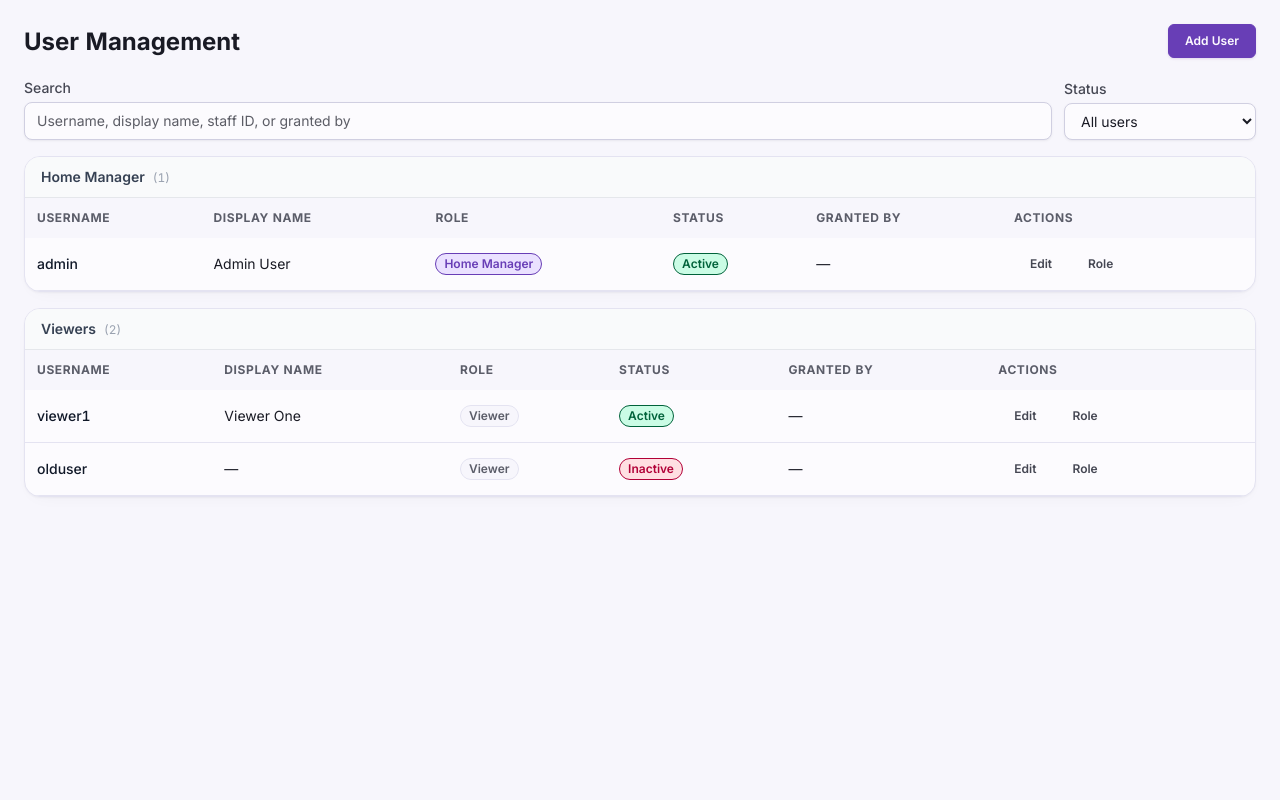
Test: UserManagement › opens Add User modal on button click
This screenshot has width=1280, height=800.
Click the button "Add User" at {"x": 1212, "y": 41}, box [1168,24,1256,58]
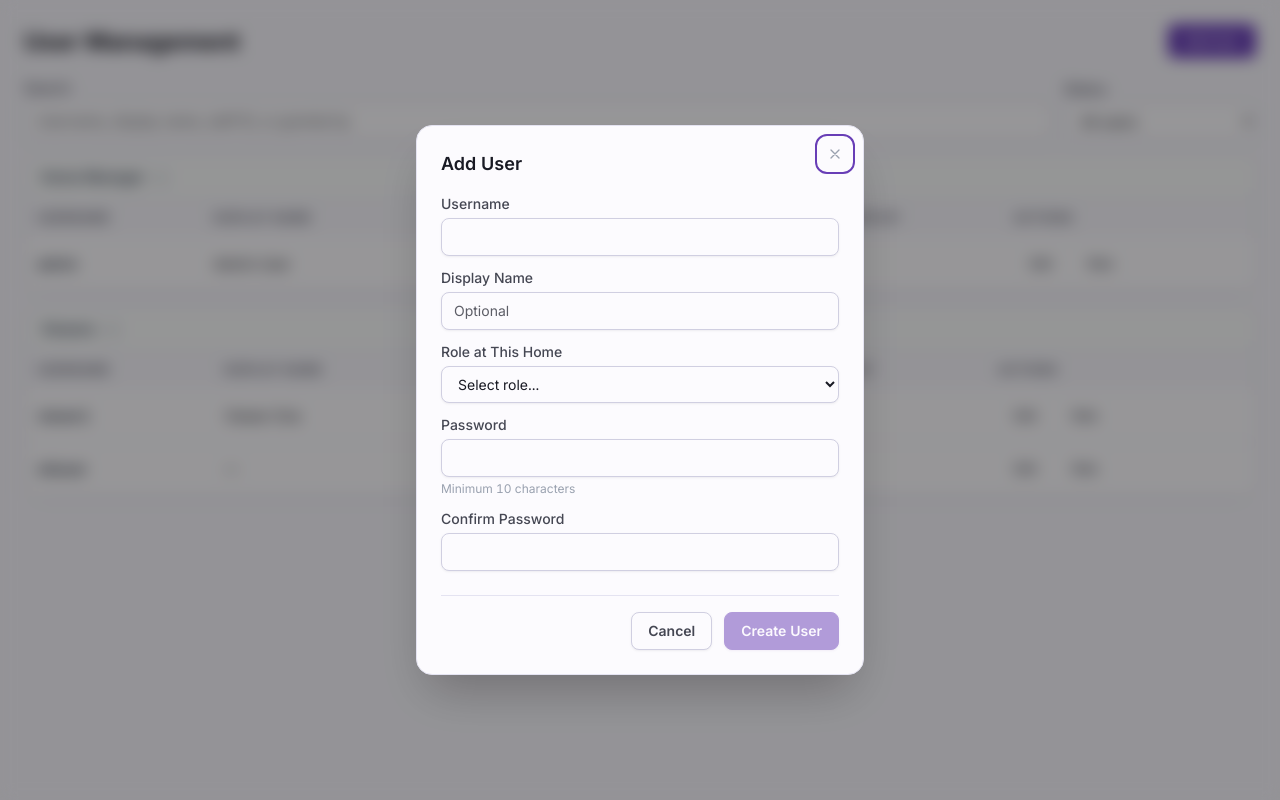
Check: the text "Password" is shown, box [441,416,507,433]
Check: the text "Confirm Password" is shown, box [441,510,564,527]
Check: the button "Create User" is shown, box [724,612,839,650]
